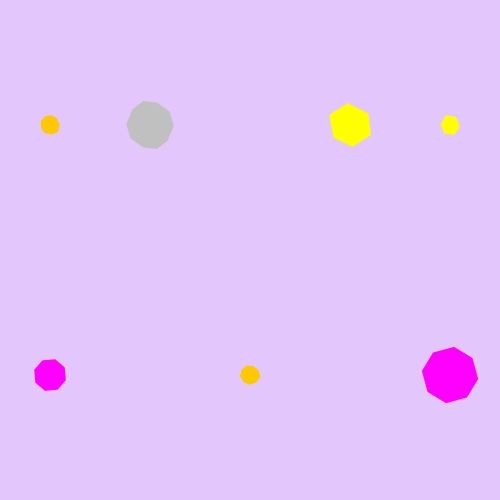decagon: (122, 99, 179, 151)
hexagon: (324, 103, 377, 147), (435, 112, 465, 138)
nonagon: (36, 111, 65, 139), (236, 361, 265, 389)
octagon: (419, 344, 482, 407), (30, 355, 71, 396)
